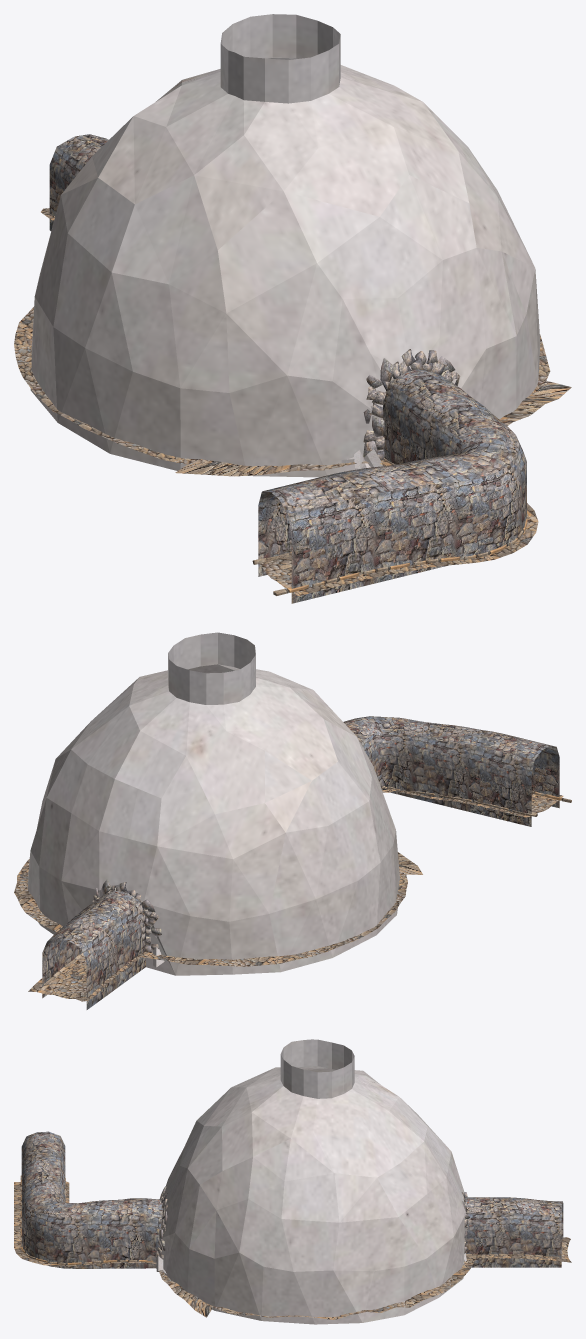
3 views of the same model, one above another, from view 1: azimuth 30°, elevation 25°; view 2: azimuth 150°, elevation 25°; view 3: azimuth 270°, elevation 25° (orthographic). The views are drawn at different scales.
Parts seen in each view (by area): view 1: Wall_col, Floor1_col, Stone; view 2: Wall_col, Floor1_col, Stone2, Stone; view 3: Wall_col, Floor1_col, Stone, Stone2.
Part boxes in pixels (x1,y1,x2,y2): Wall_col: [30, 14, 540, 603]; Floor1_col: [14, 208, 571, 595]; Stone: [252, 349, 528, 595]; Wall_col: [28, 632, 559, 1009]; Floor1_col: [14, 788, 563, 1001]; Stone2: [43, 879, 164, 995]; Stone: [381, 786, 571, 816]; Wall_col: [21, 1039, 563, 1324]; Floor1_col: [14, 1181, 571, 1319]; Stone: [20, 1175, 167, 1273]; Stone2: [462, 1192, 559, 1264].
Size of the model in its own units: 36.14 by 24.67 by 59.86.
Materials: 5 (4 with a texture image).
